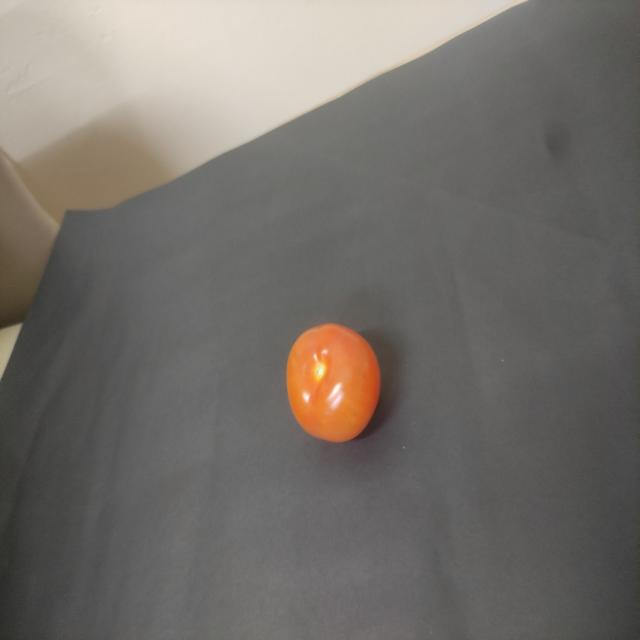sari: (284, 315, 389, 457)
